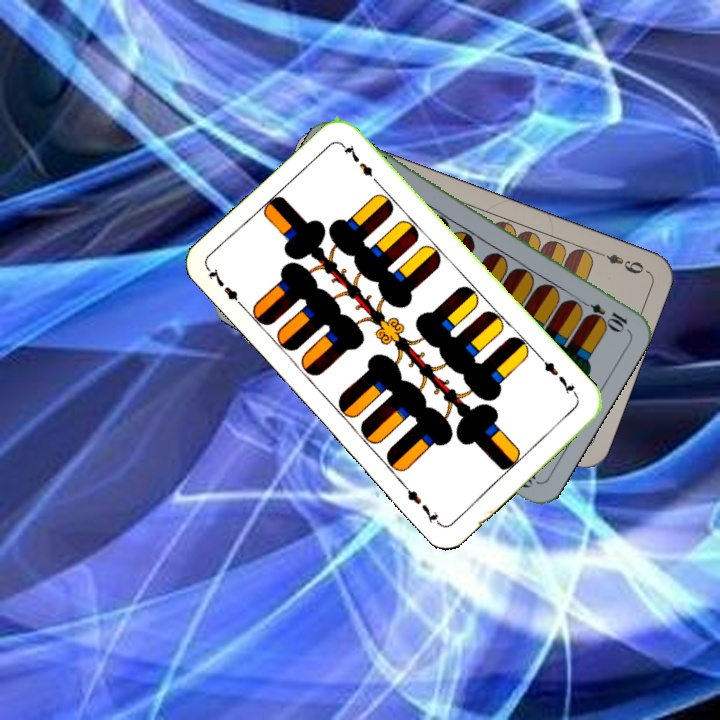E10: (574, 295, 630, 333)
E7: (204, 264, 249, 313), (536, 353, 581, 401)
E9: (592, 247, 647, 277)
